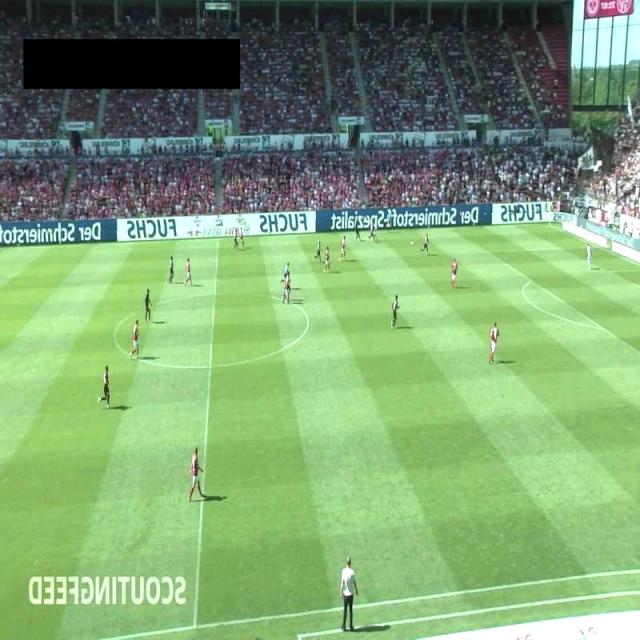bigarea_top_inner: (482, 246, 493, 256)
bigarea_top_outter: (592, 242, 602, 252)
bottom_arc_area_intersection: (595, 321, 614, 336)
corner: (544, 220, 554, 232)
halfcircle_bottom: (206, 360, 217, 370)
halfcircle_top: (210, 286, 220, 296)
midline_bottom_intersection: (188, 619, 202, 634)
midline_top_intersection: (212, 234, 223, 245)
smallarea_top_inner: (604, 266, 614, 276)
top_arc_area_intersection: (524, 273, 540, 289)
